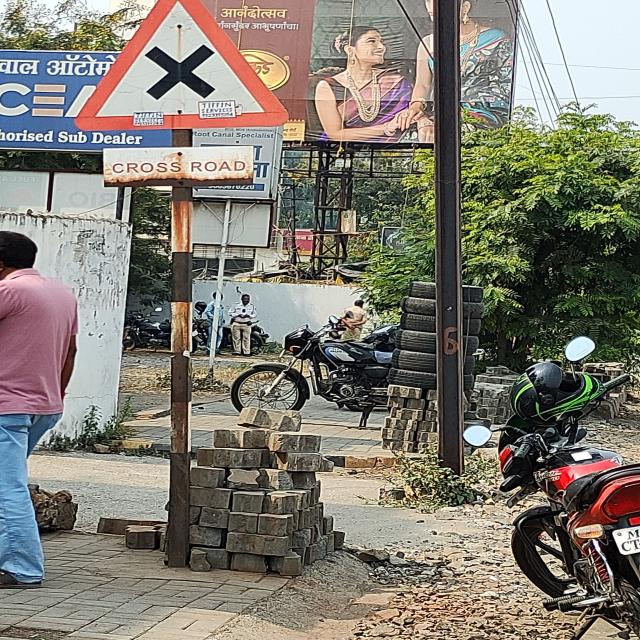cross_road: (72, 1, 288, 138)
